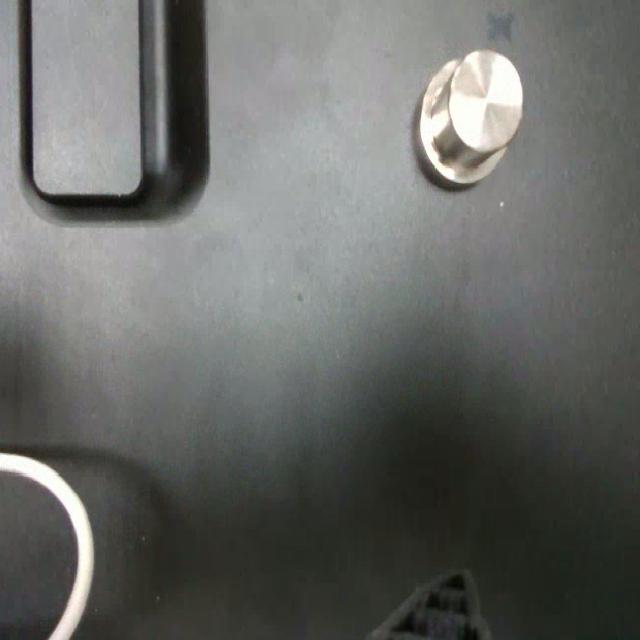sensor: (417, 48, 522, 185)
